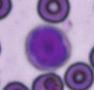M: (25, 25, 71, 70)
